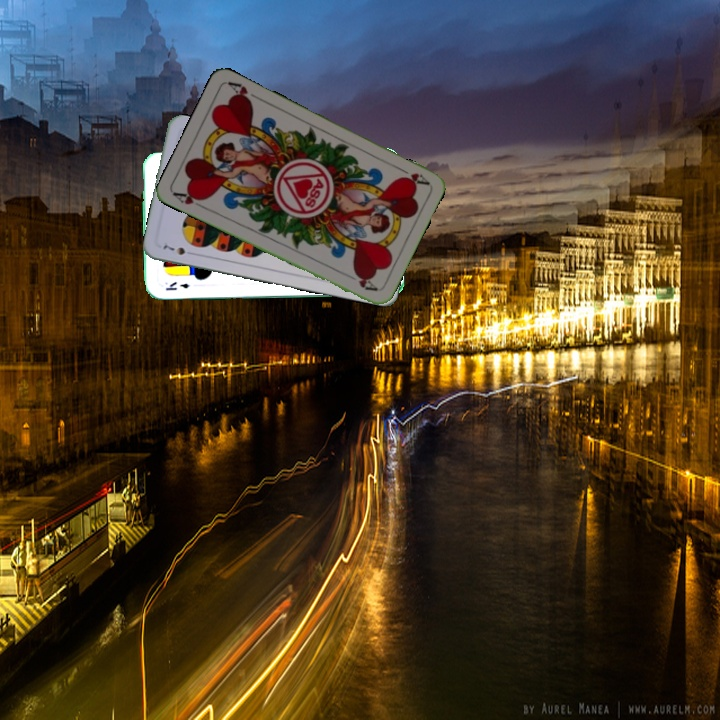EK: (162, 278, 192, 293)
HA: (170, 187, 208, 212), (393, 163, 431, 187)
S7: (158, 240, 197, 258)
